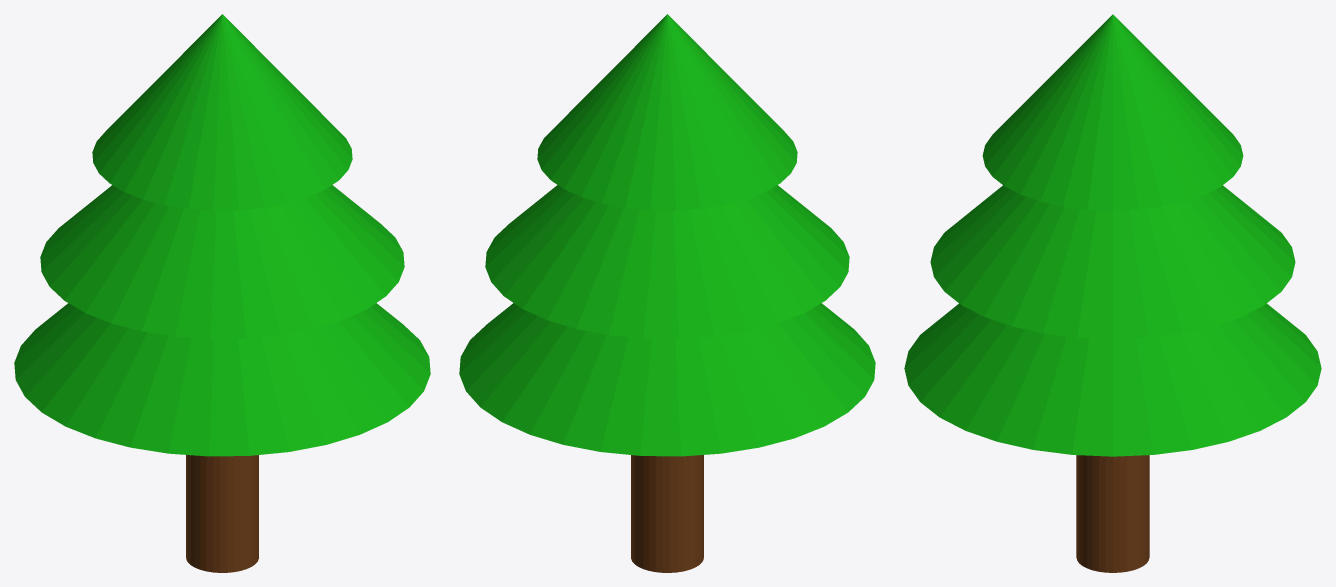
The model's file is bigTree.obj.
The picture shows the model from 3 angles, left to right: view 1: azimuth 30°, elevation 25°; view 2: azimuth 150°, elevation 25°; view 3: azimuth 270°, elevation 25°; orthographic projection.
Visible parts, largest first — view 1: bigTree; view 2: bigTree; view 3: bigTree.
Boxes of the visible parts, box(x1,y1,x2,y2) form: bigTree: box(14, 14, 430, 572); bigTree: box(459, 14, 875, 572); bigTree: box(904, 14, 1321, 572).
Size of the model in its own units: 40 by 57.5 by 40.
Materials: 1 (1 with a texture image).
